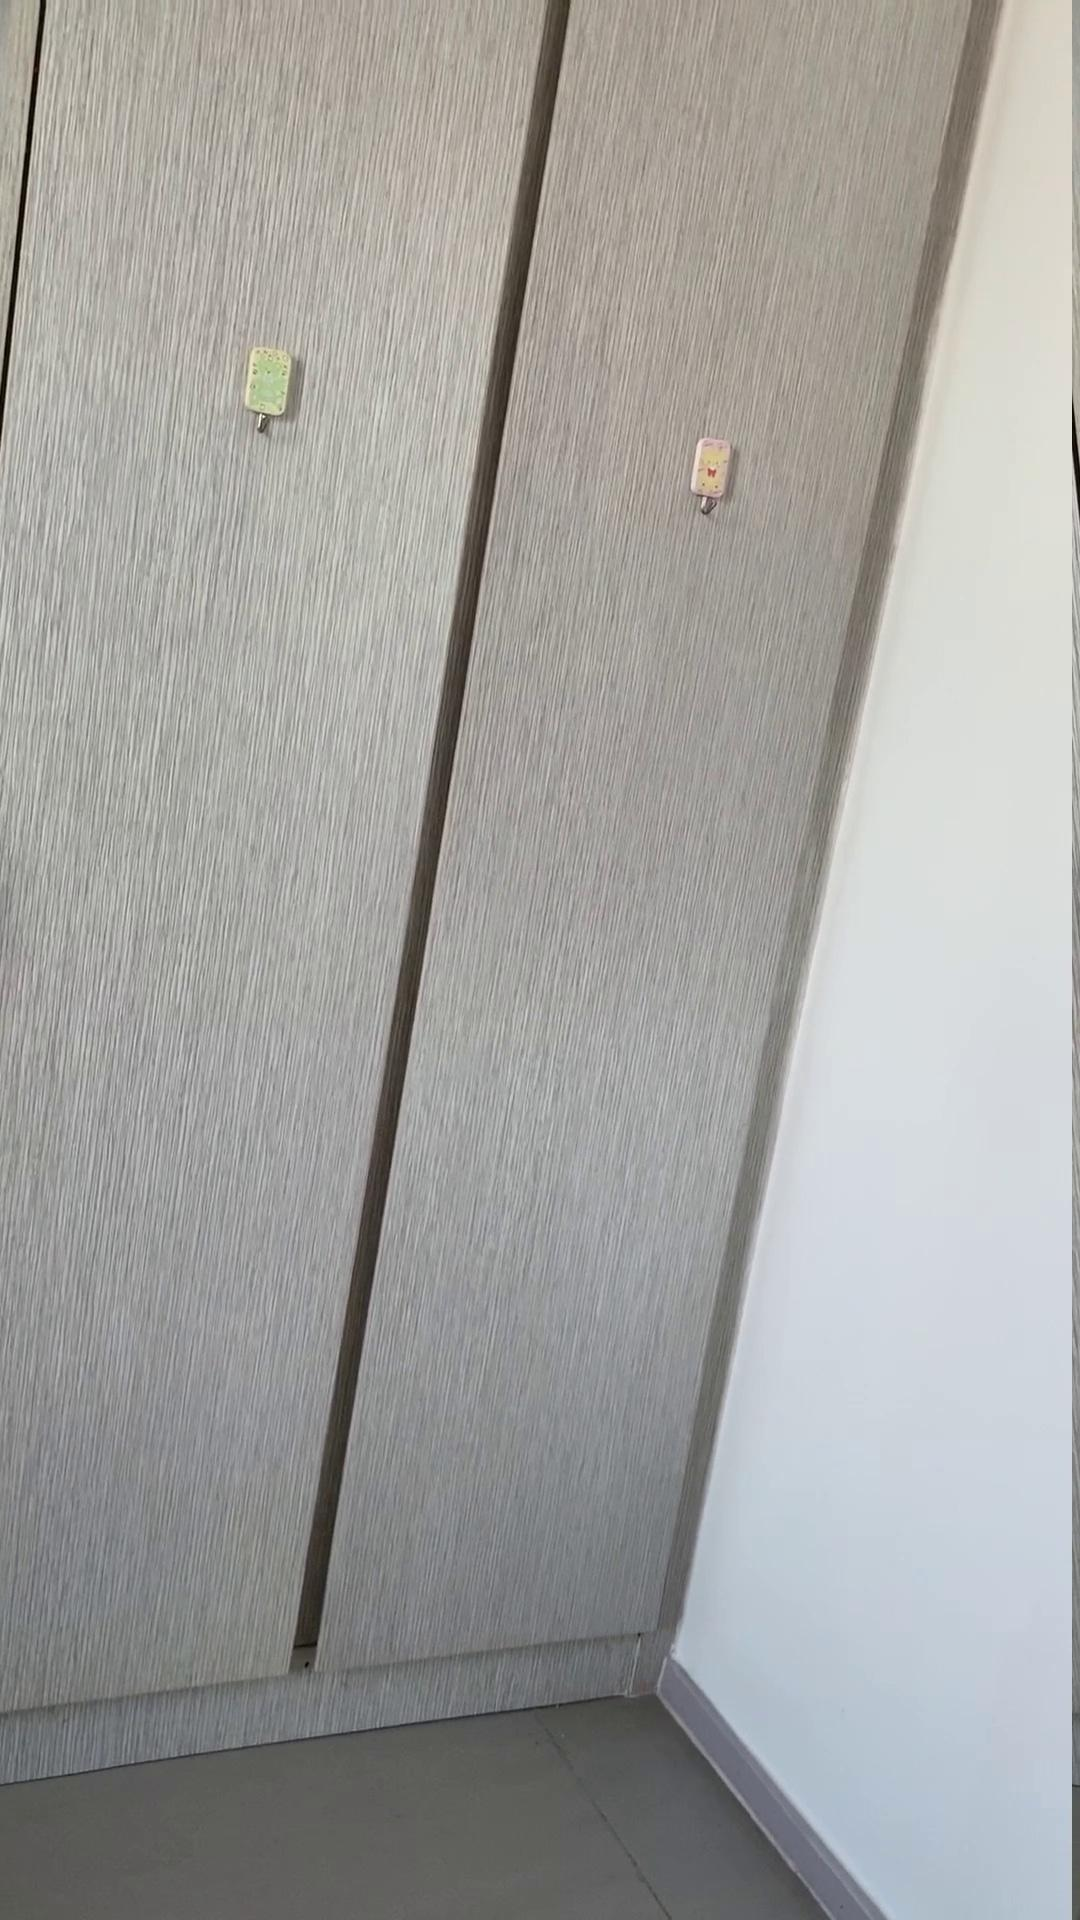Armario: (7, 16, 978, 1725)
